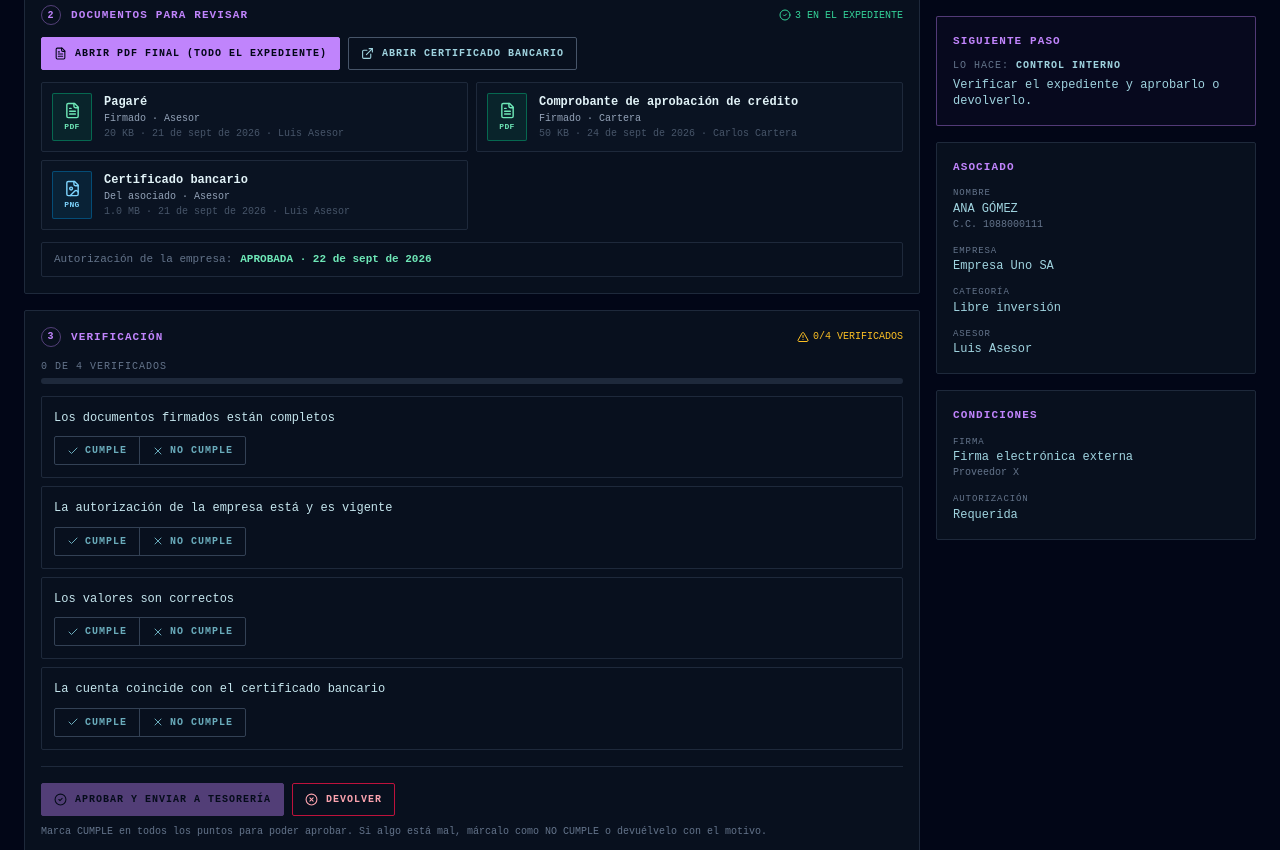
it: Control Interno — aprobar › no se puede aprobar hasta marcar CUMPLE en todos los puntos
(page scrolled)
Expected: the button "APROBAR Y ENVIAR A TESORERÍA" is disabled, [41,783,284,816]
Step 1. Click the button "CUMPLE" below "Los documentos firmados están completos" → (97, 451), box [55,437,139,464]
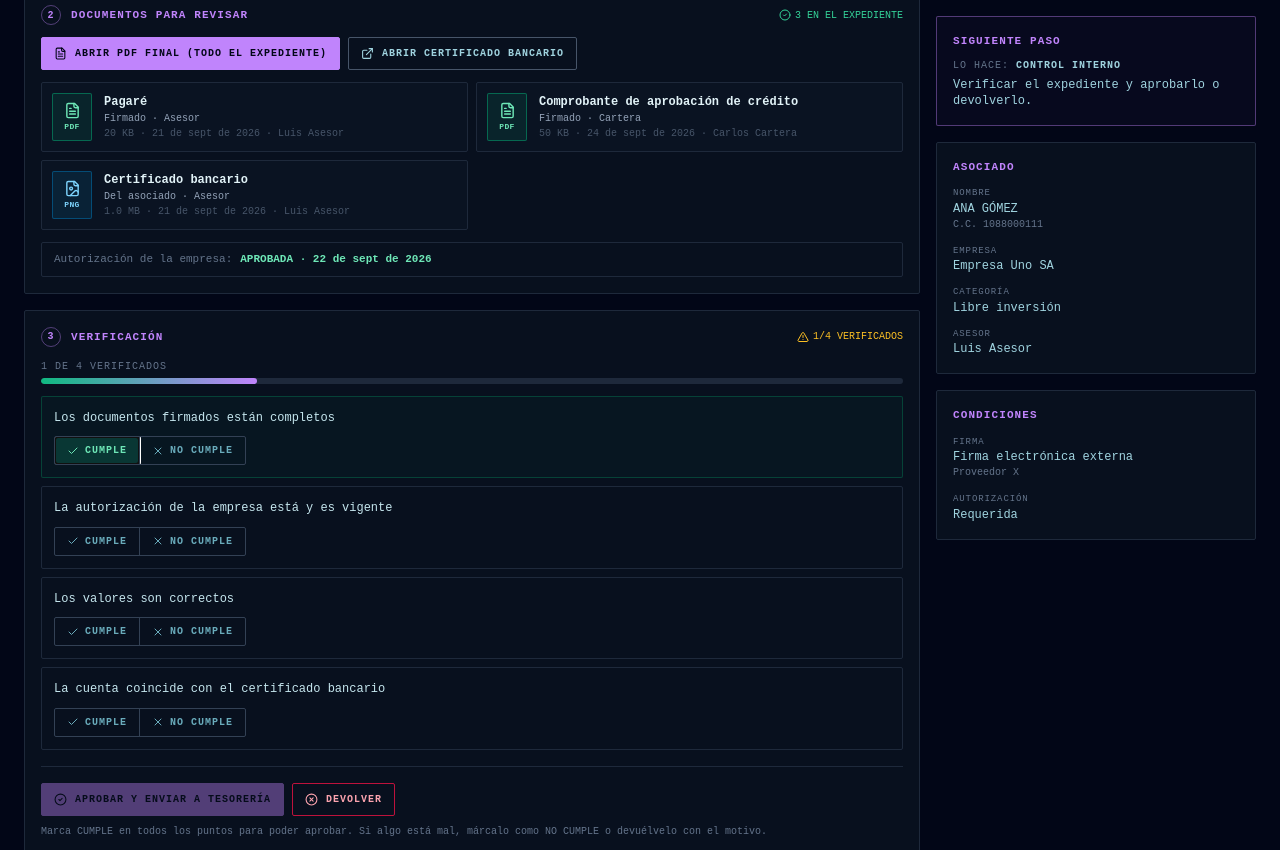
Step 2. Click the 2nd button "CUMPLE" → (97, 541), box [55,528,139,555]
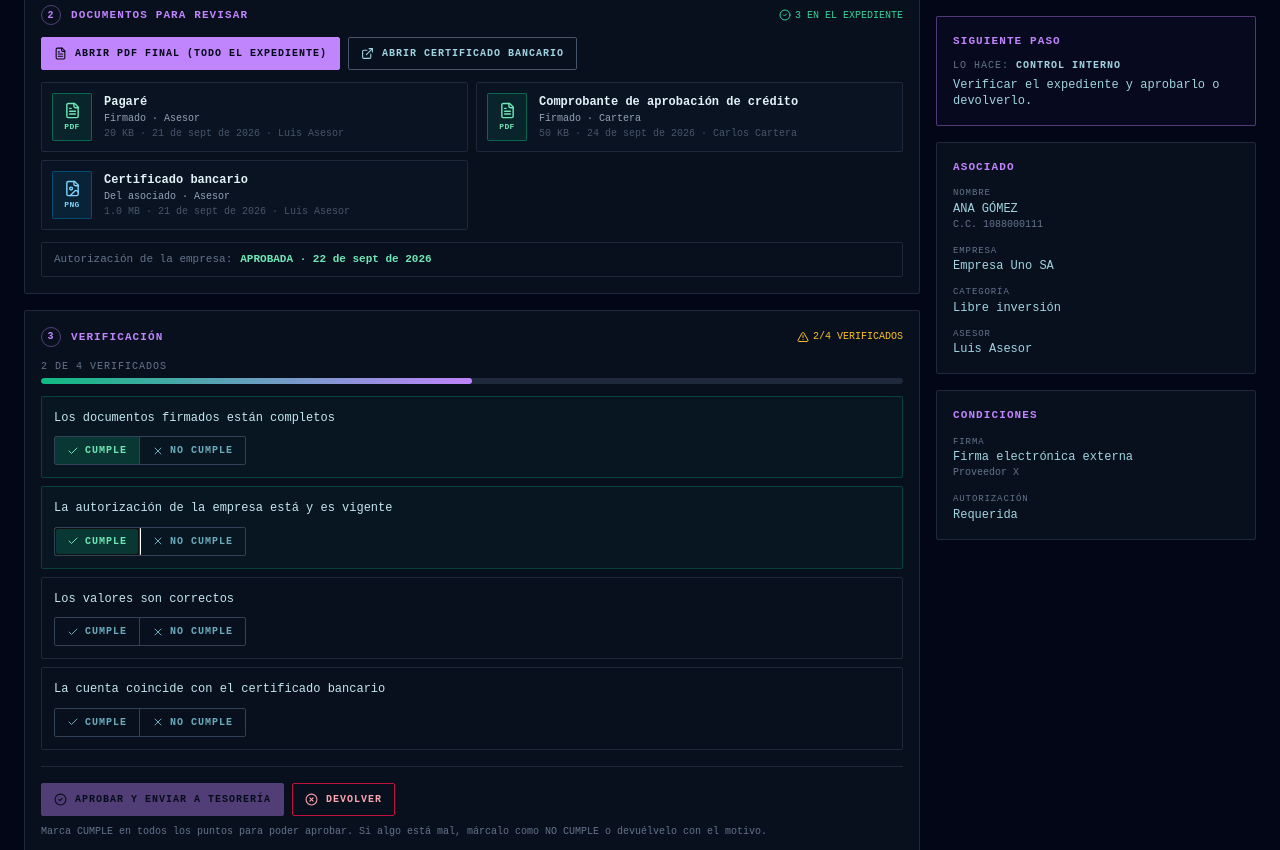
Step 3. Click the button "CUMPLE" below "Los valores son correctos" → (97, 632), box [55,618,139,645]
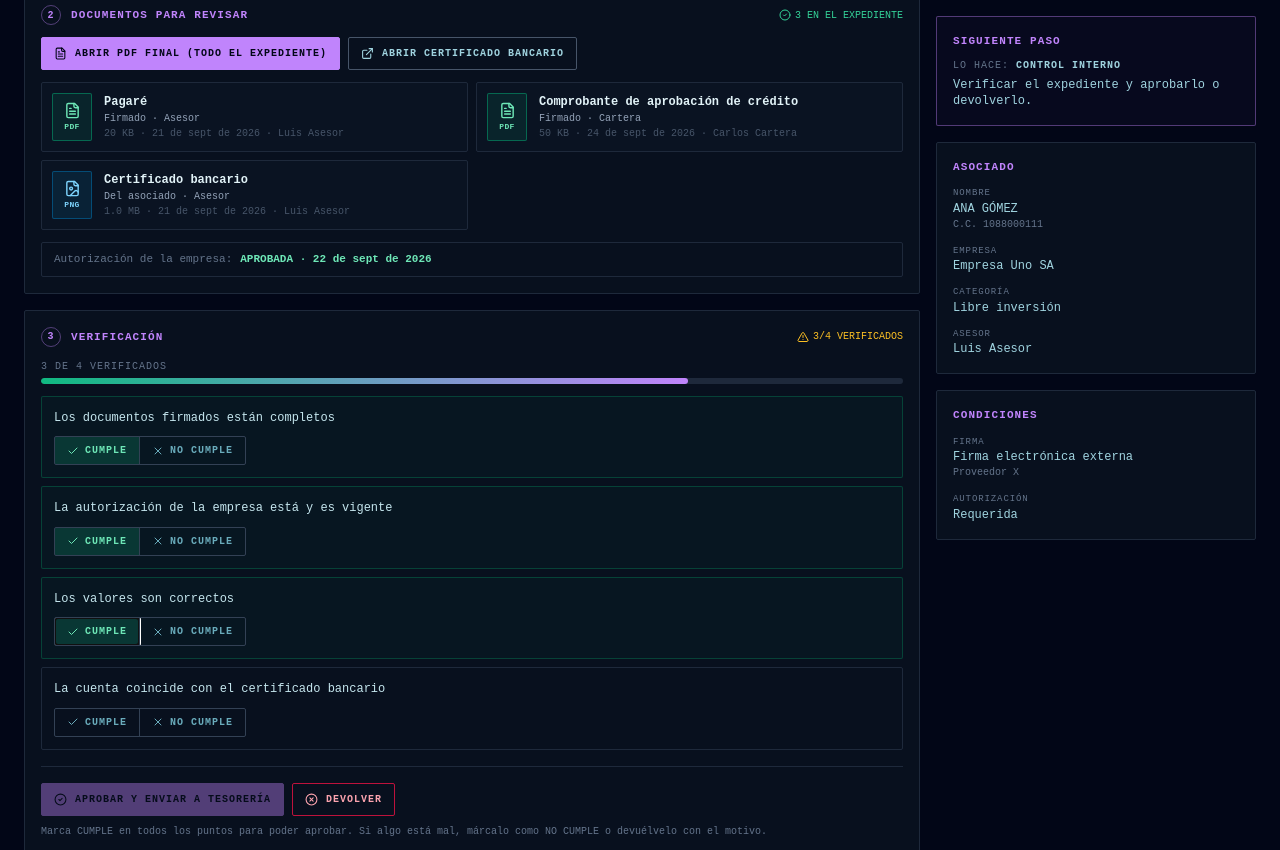
Expected: the button "APROBAR Y ENVIAR A TESORERÍA" is disabled, [41,783,284,816]
Step 4. Click the 4th button "CUMPLE" → (97, 722), box [55,709,139,736]
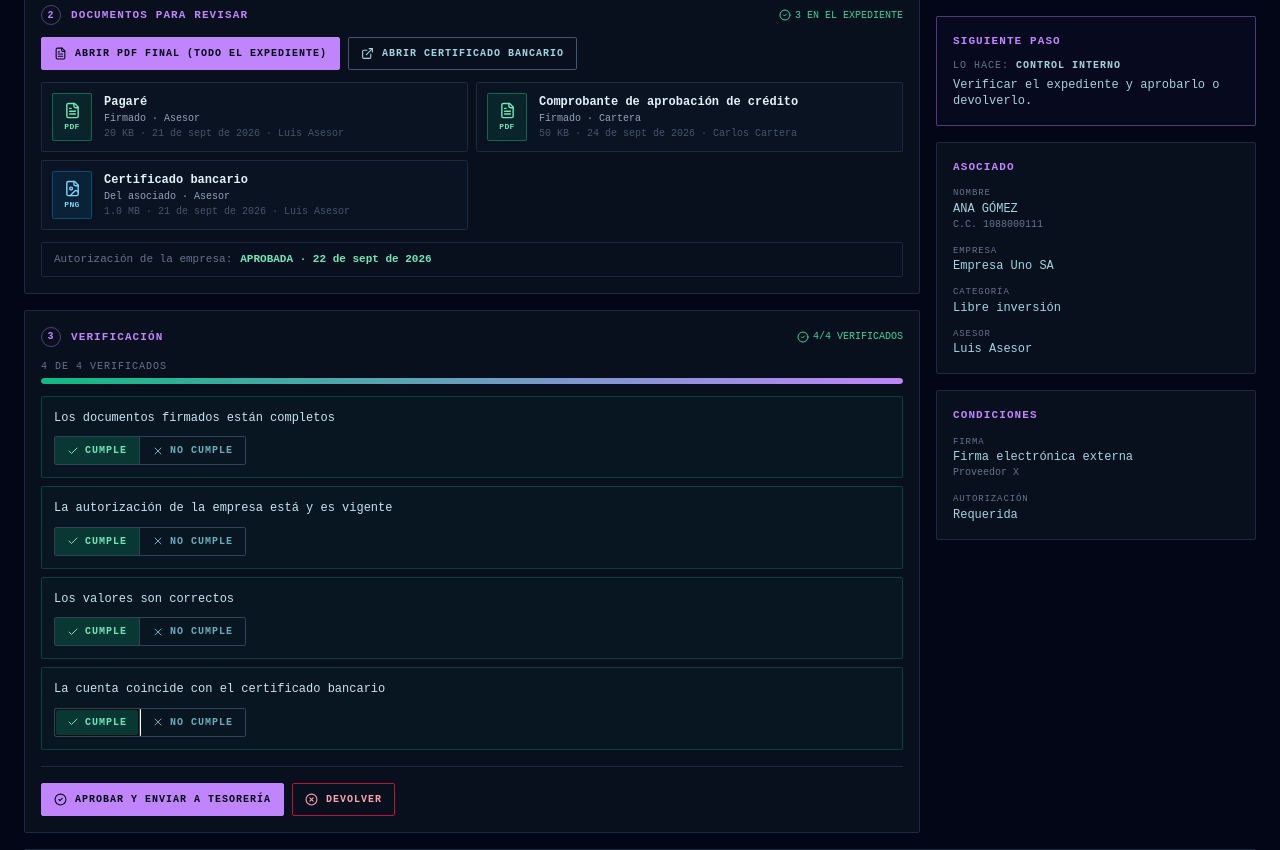
Result: the button "APROBAR Y ENVIAR A TESORERÍA" is enabled at [41,783,284,816]
Step 5. Click the button "CUMPLE" below "Los documentos firmados están completos" → (97, 451), box [55,437,139,464]
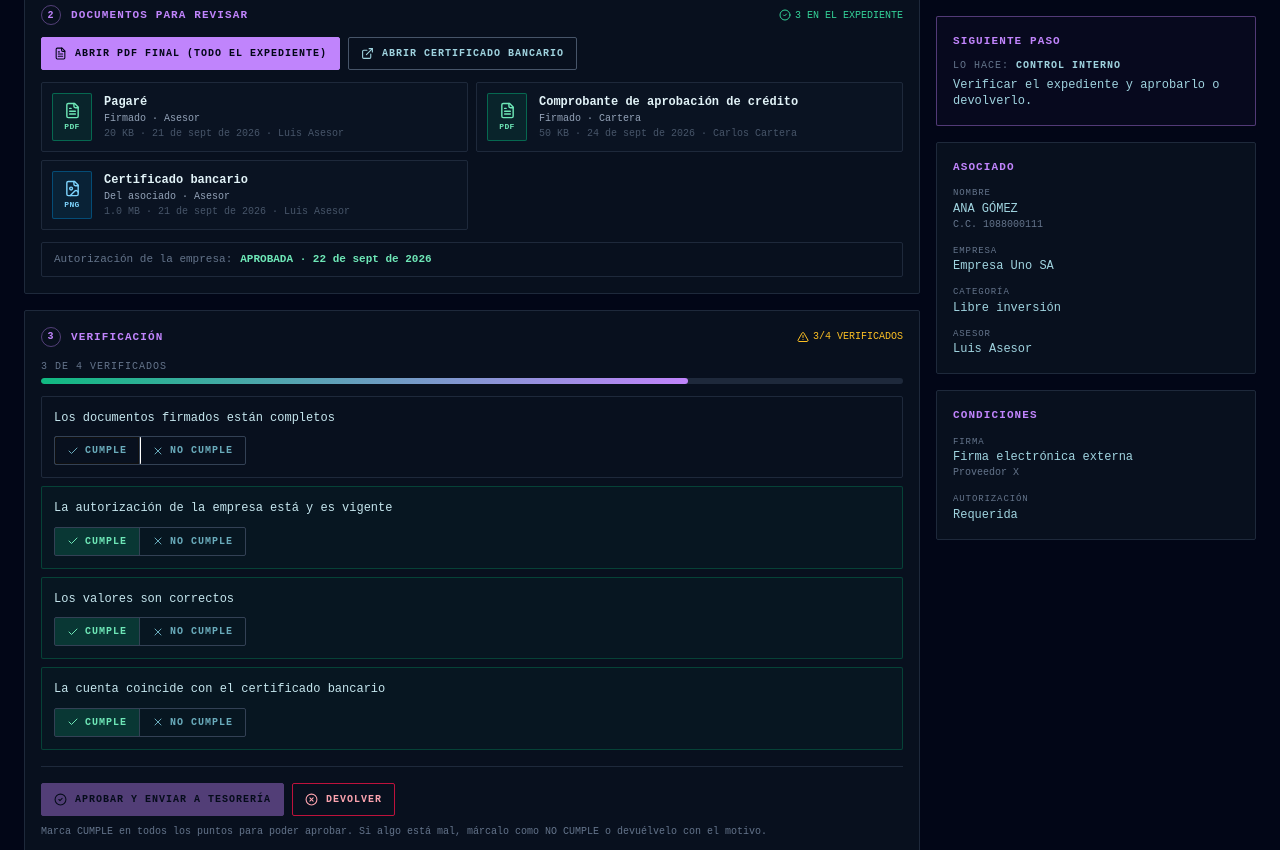
Result: the button "APROBAR Y ENVIAR A TESORERÍA" is disabled at [41,783,284,816]
